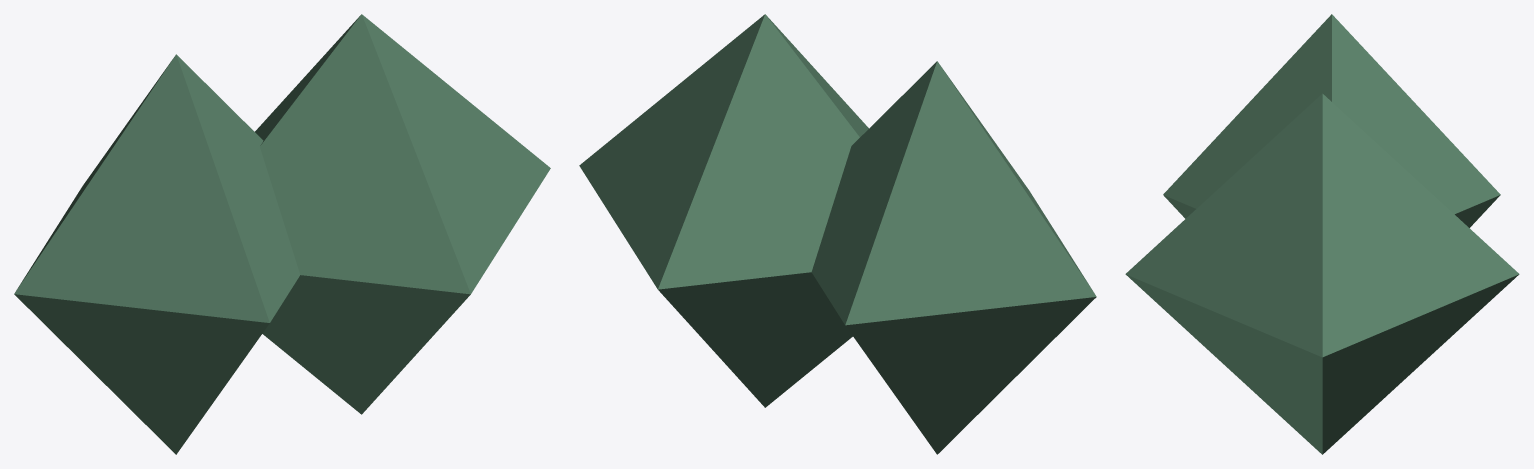
Rendered from bush_small.glb.
3 renders of one model, left to right at view 1: azimuth 30°, elevation 25°; view 2: azimuth 150°, elevation 25°; view 3: azimuth 270°, elevation 25°, orthographic. The views are drawn at different scales.
Parts seen in each view (by area): view 1: bush_small; view 2: bush_small; view 3: bush_small.
Part boxes in pixels (x1,y1,x2,y2): bush_small: [14, 14, 550, 454]; bush_small: [579, 14, 1096, 454]; bush_small: [1125, 14, 1519, 454].
Size of the model in its own units: 1.18 by 0.85 by 0.84.
